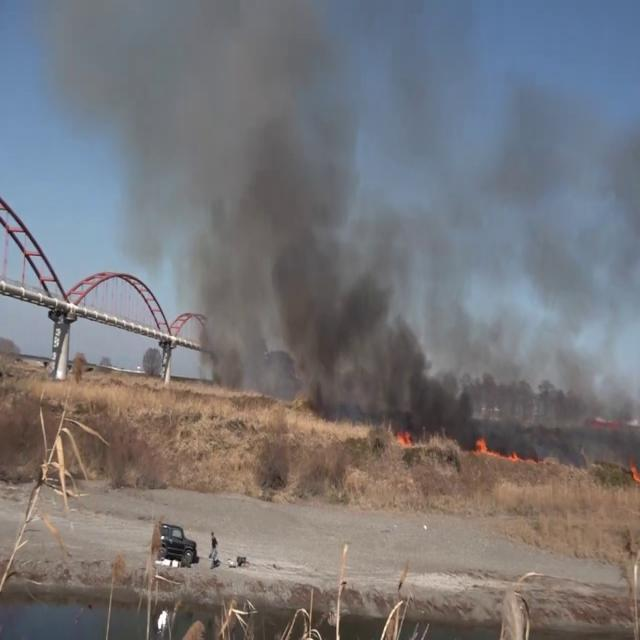Fire: (390, 416, 416, 452)
Smoke: (40, 0, 412, 397), (378, 62, 640, 444)
